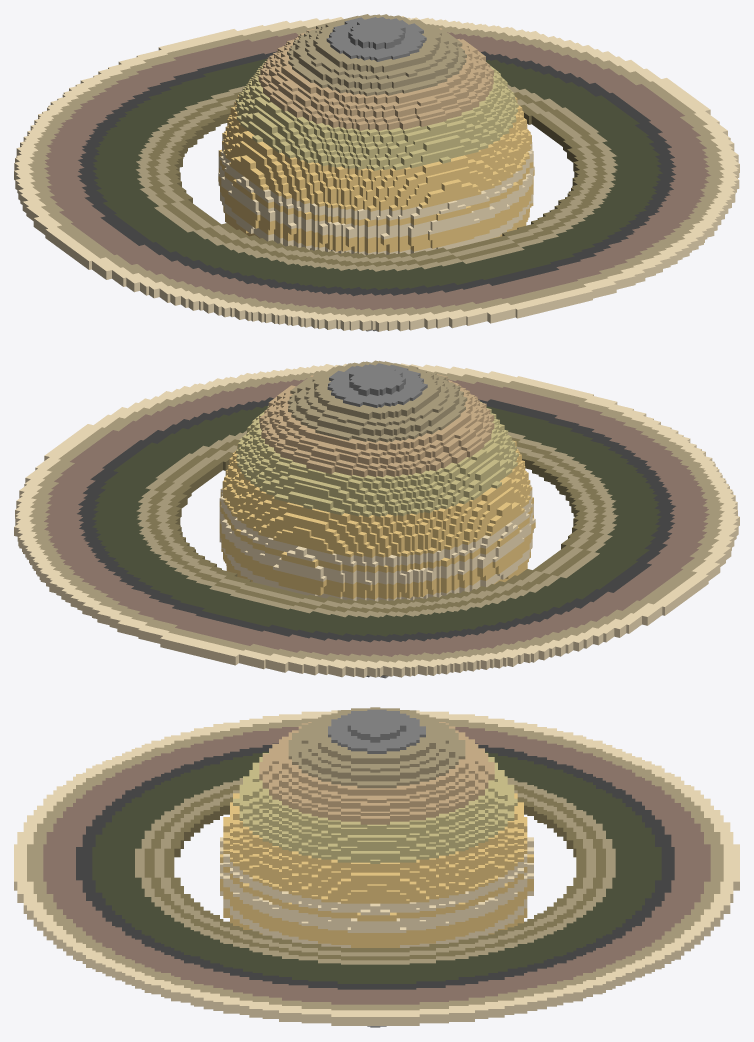
File: saturn.glb
3 renders of one model, top to bottom at view 1: azimuth 30°, elevation 25°; view 2: azimuth 150°, elevation 25°; view 3: azimuth 270°, elevation 25°, orthographic.
Parts seen in each view (by area): view 1: Voxel Saturn; view 2: Voxel Saturn; view 3: Voxel Saturn.
Part boxes in pixels (left/top/right/bottom): Voxel Saturn: left=14, top=14, right=739, bottom=331; Voxel Saturn: left=14, top=360, right=739, bottom=678; Voxel Saturn: left=14, top=707, right=739, bottom=1027.
Size of the model in its own units: 22.2 by 9.6 by 22.2.
Materials: 1 (1 with a texture image).
